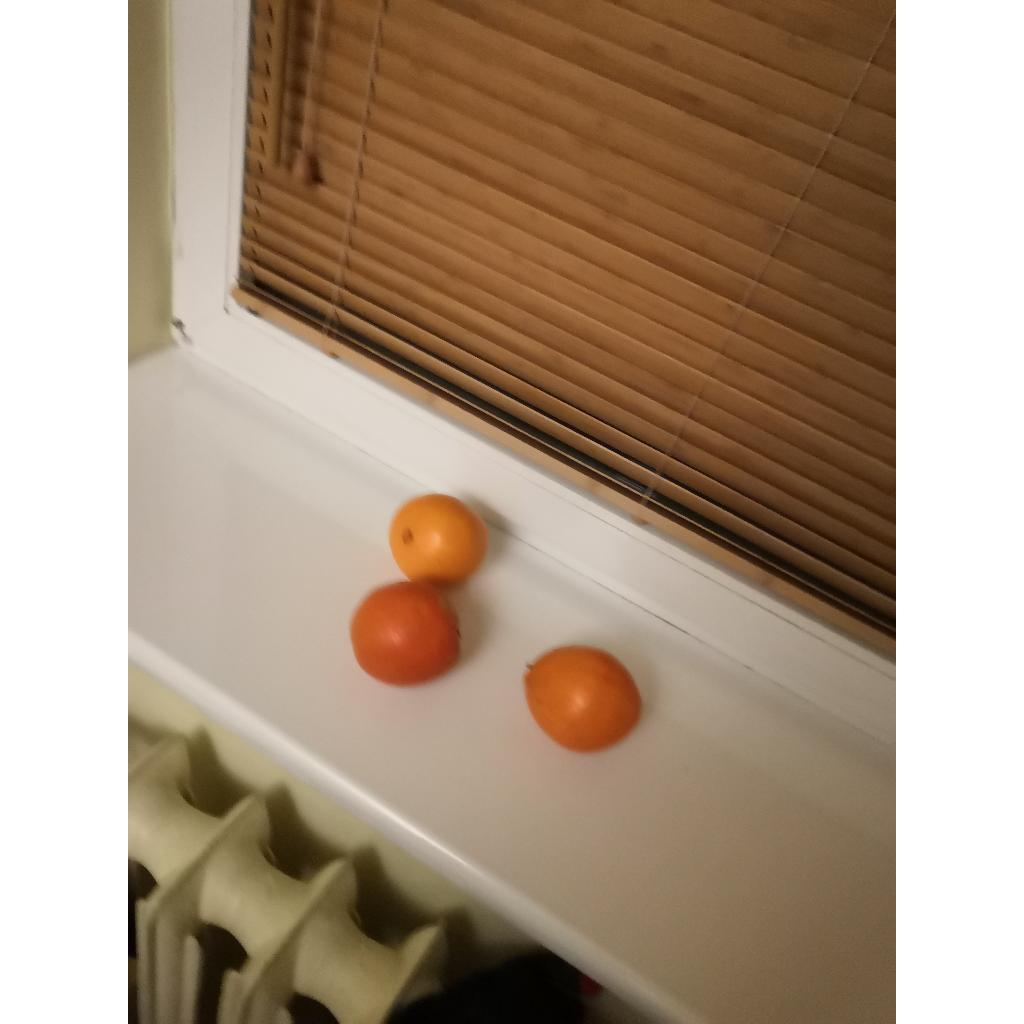orange: (524, 646, 642, 752), (350, 582, 460, 686), (390, 494, 488, 584)
